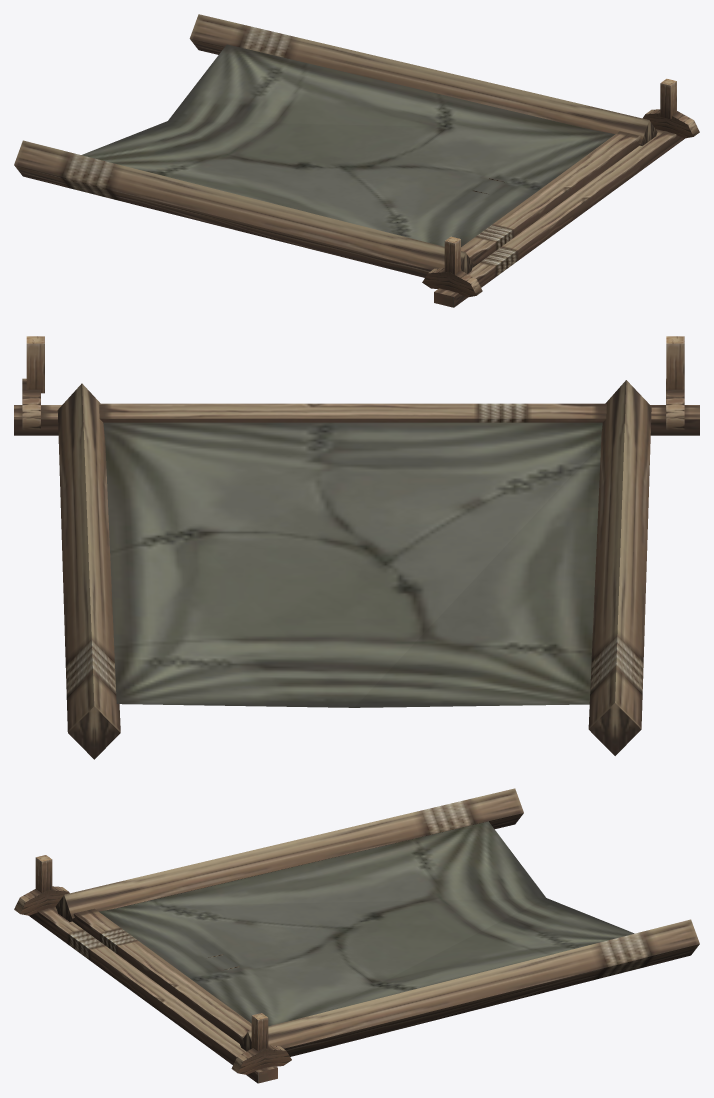
File: Lty_feixingqi01.FBX
3 views of the same model, one above another, from view 1: azimuth 30°, elevation 25°; view 2: azimuth 150°, elevation 25°; view 3: azimuth 270°, elevation 25° (orthographic). The views are drawn at different scales.
Parts seen in each view (by area): view 1: Lty_feixingqi01; view 2: Lty_feixingqi01; view 3: Lty_feixingqi01.
Part boxes in pixels (x1,y1,x2,y2): Lty_feixingqi01: (14,14,699,307); Lty_feixingqi01: (14,336,699,759); Lty_feixingqi01: (14,788,699,1083).
Size of the model in its own units: 242 by 260 by 26.62.
